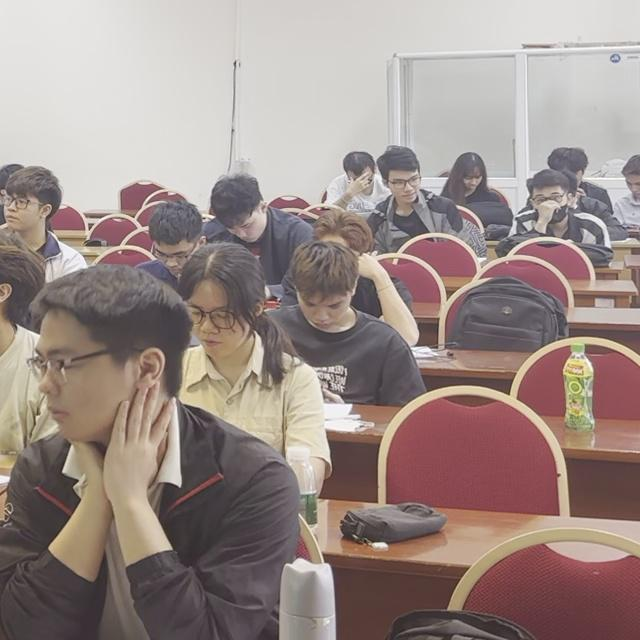Looking away: (35, 336, 115, 434), (189, 298, 241, 355), (301, 297, 352, 331), (3, 195, 40, 229), (228, 212, 266, 243), (393, 175, 419, 204)
Looking forward: (535, 192, 566, 223)
